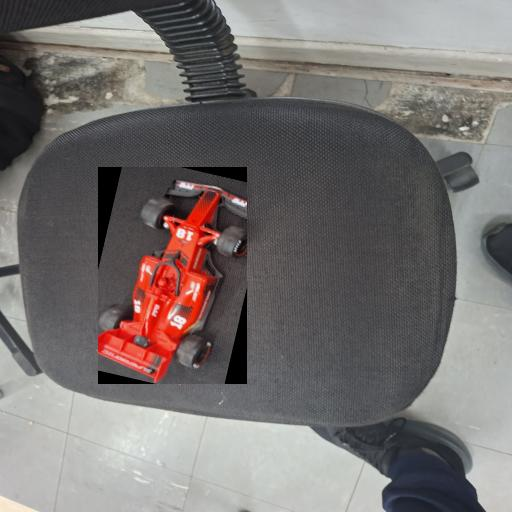carro: (98, 167, 247, 384)
